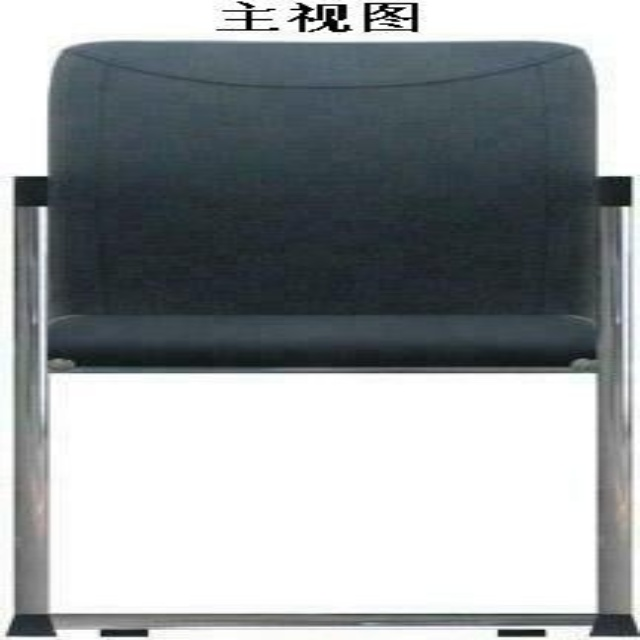obstacle: (15, 42, 628, 639)
